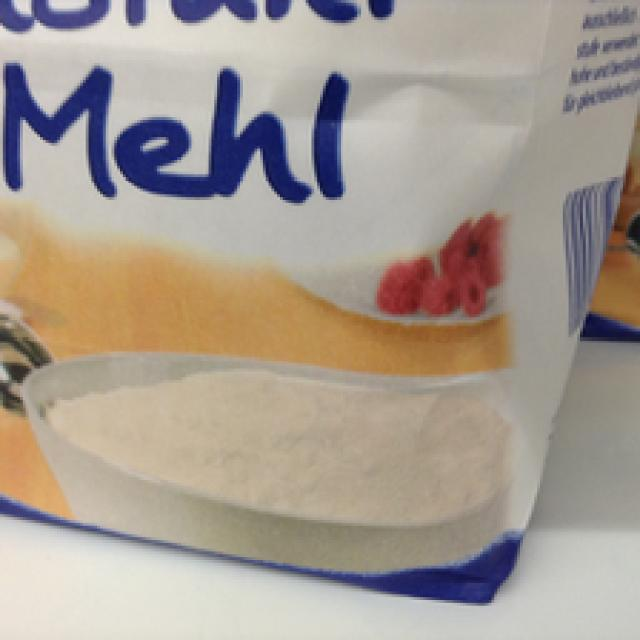groceries: (0, 0, 629, 600)
